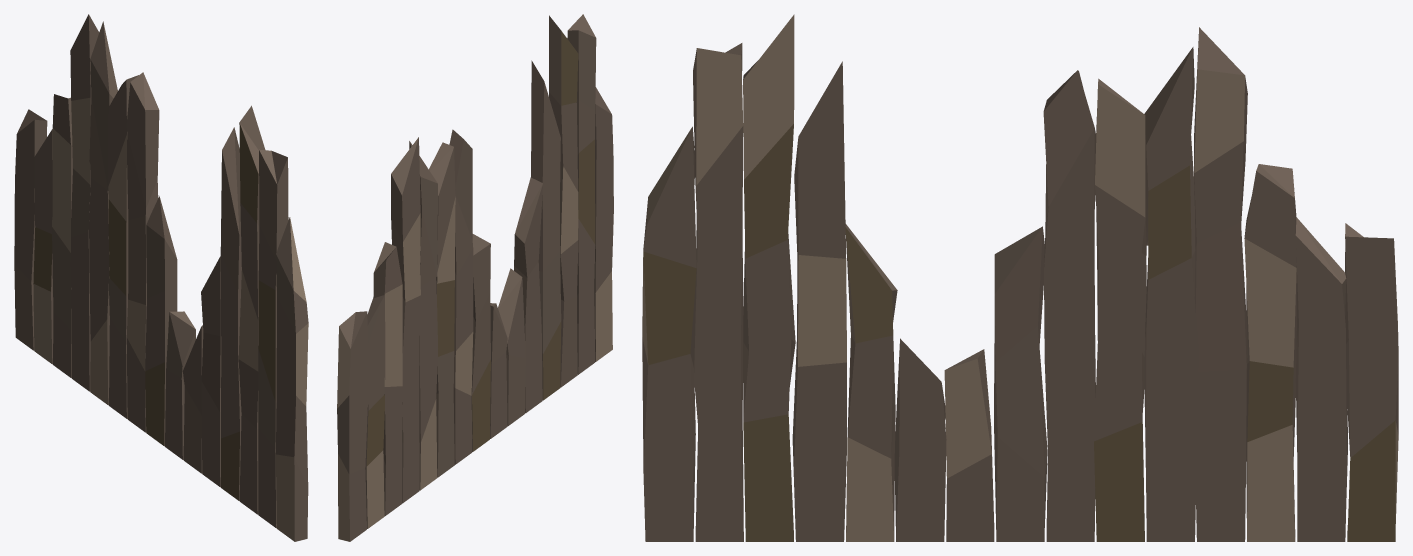
Rendered from HouseWall.fbx.
3 renders of one model, left to right at view 1: azimuth 30°, elevation 25°; view 2: azimuth 150°, elevation 25°; view 3: azimuth 270°, elevation 25°, orthographic. The views are drawn at different scales.
Visible parts, largest first — view 1: Wall; view 2: Wall; view 3: Wall.
Part boxes in pixels (left/top/right/bottom): Wall: left=14, top=14, right=308, bottom=541; Wall: left=337, top=14, right=613, bottom=541; Wall: left=642, top=14, right=1398, bottom=541.
Bounding box in the file's own units: 26.73 × 548 × 712.
